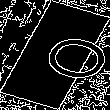O_W: (12, 26, 98, 84)
